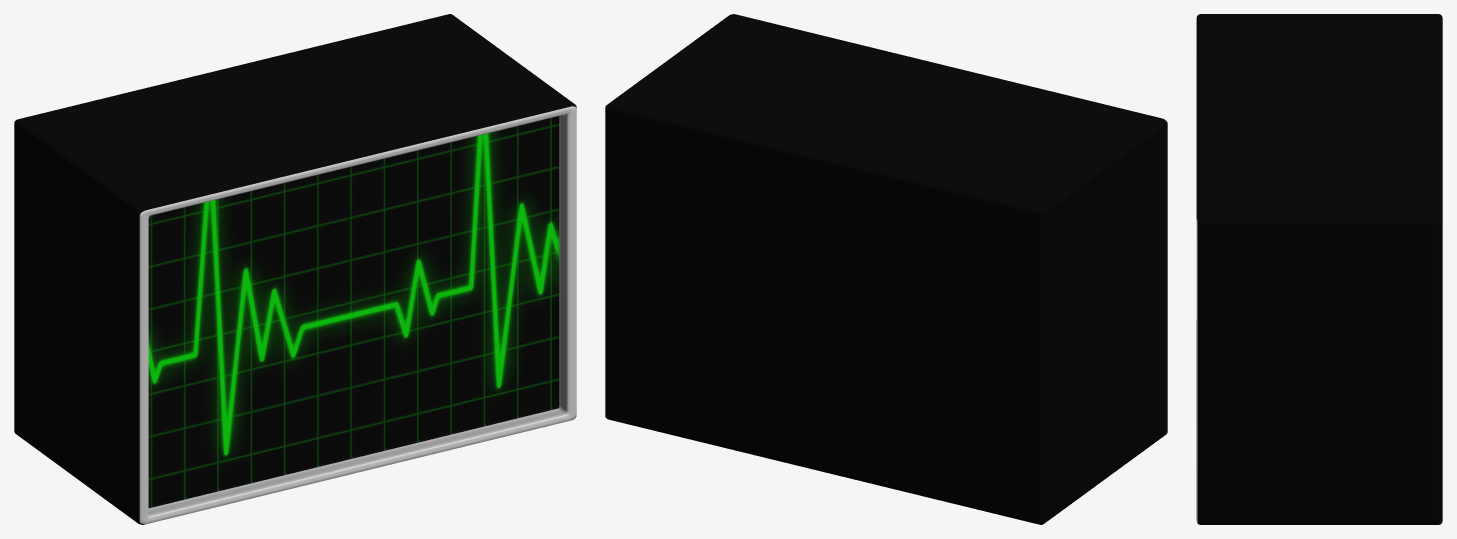
The model's file is HeartMonitor (1).fbx.
The picture shows the model from 3 angles, left to right: view 1: azimuth 30°, elevation 25°; view 2: azimuth 150°, elevation 25°; view 3: azimuth 270°, elevation 25°; orthographic projection. The views are drawn at different scales.
Visible parts, largest first — view 1: Heart_monitor; view 2: Heart_monitor; view 3: Heart_monitor.
Part boxes in pixels (left/top/right/bottom): Heart_monitor: left=14, top=14, right=576, bottom=524; Heart_monitor: left=605, top=14, right=1167, bottom=524; Heart_monitor: left=1196, top=14, right=1442, bottom=524.
Bounding box in the file's own units: 1.68 × 1.15 × 0.8391.
